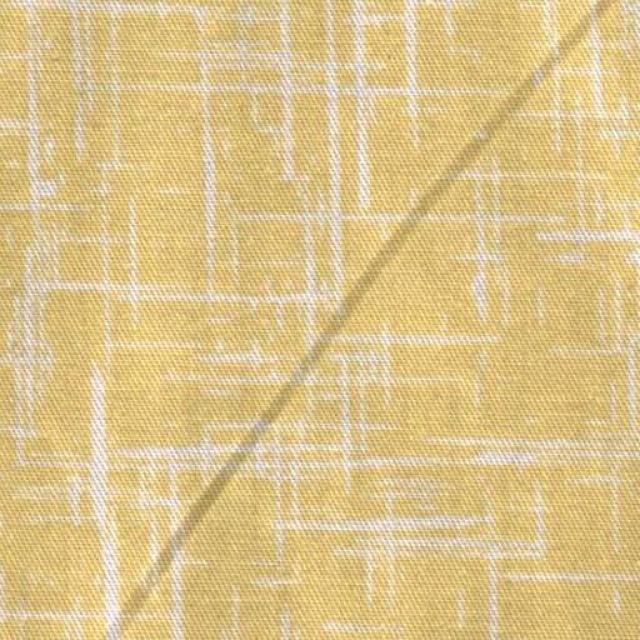broken_yarn: (121, 75, 534, 623), (524, 0, 609, 89)
